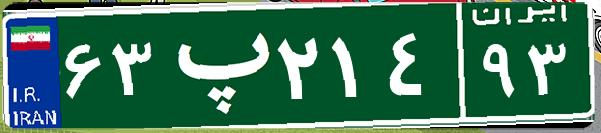1: (330, 28, 385, 110)
2: (273, 28, 330, 110)
3: (110, 28, 158, 105), (525, 38, 570, 115)
4: (385, 28, 445, 110)
6: (57, 26, 110, 107)
9: (475, 38, 525, 113)
پ: (158, 15, 273, 115)
